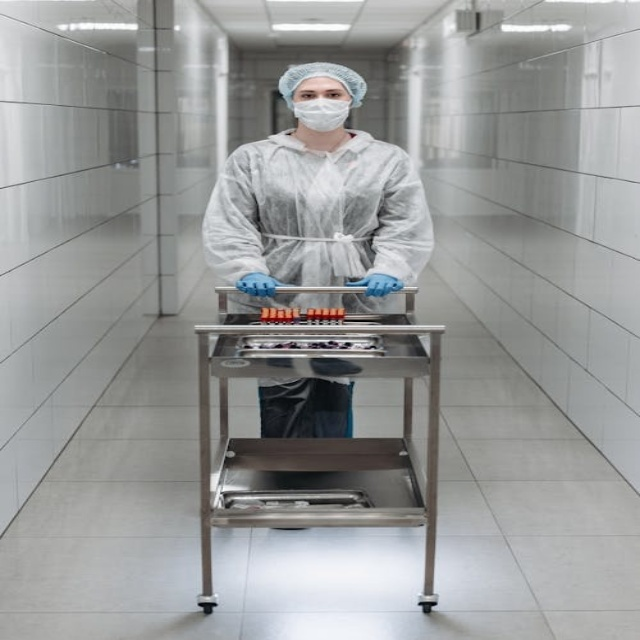Guantes: (233, 268, 291, 299), (344, 271, 406, 297)
Mascara: (290, 96, 352, 131)
Sin_gafas: (291, 86, 348, 100)
